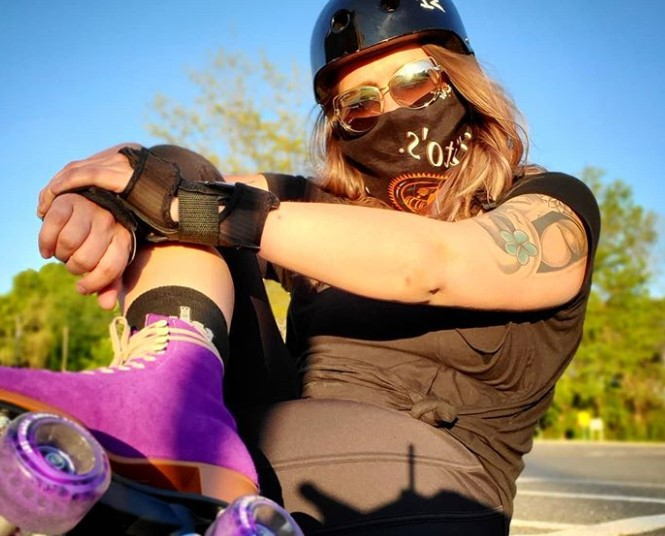face_with_mask: (310, 19, 486, 191)
